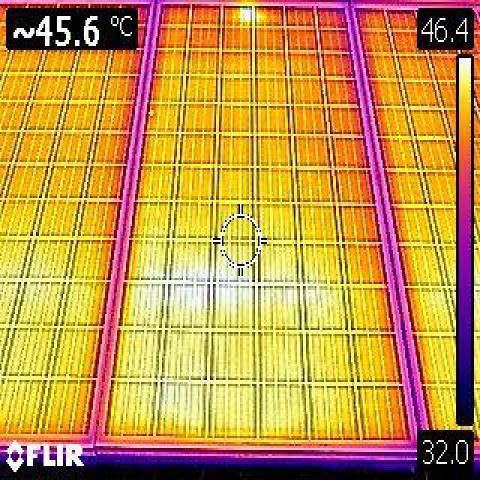fault: (136, 277, 316, 316)
